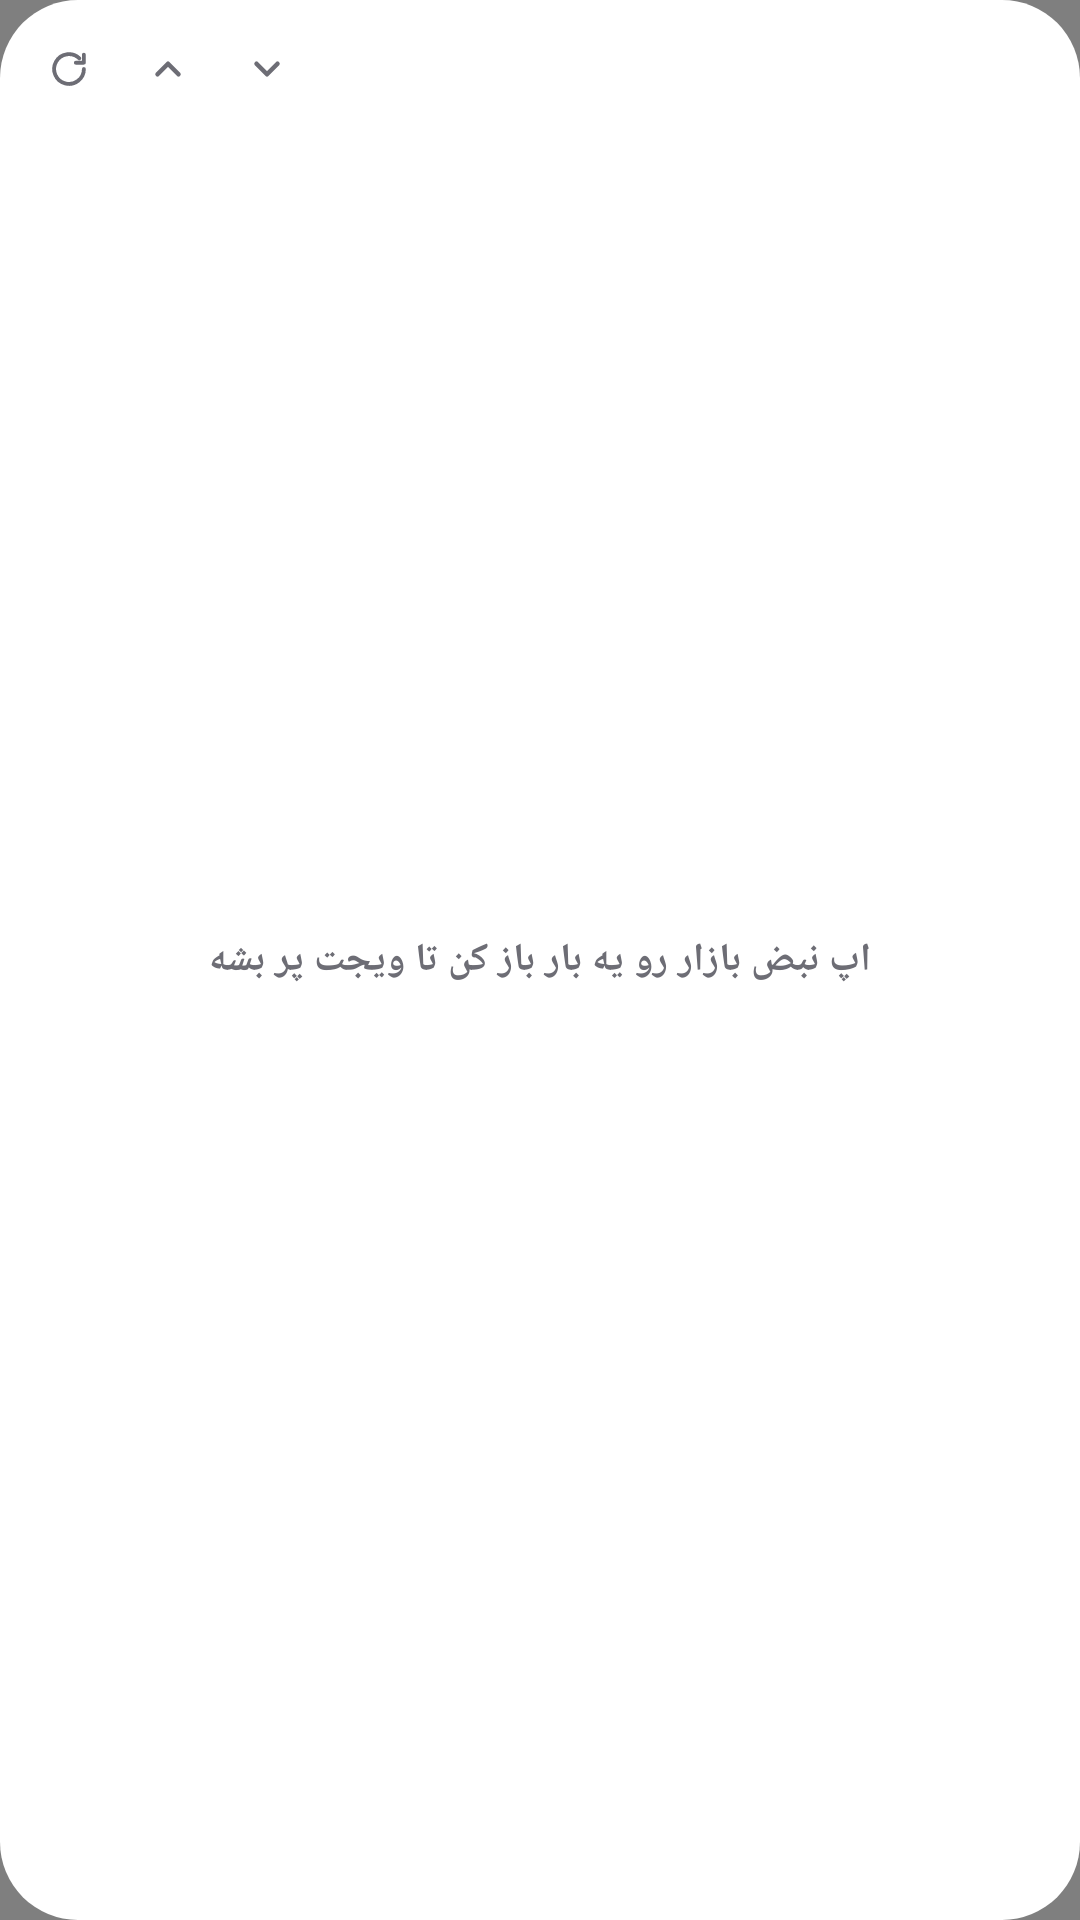

Screen size 1080px×1920px. Icon name, then its box in pixels as {"left": x1, "top": y1, "right": x2, "bottom": y2}:
next: {"left": 254, "top": 61, "right": 280, "bottom": 77}
previous: {"left": 155, "top": 61, "right": 181, "bottom": 77}
refresh: {"left": 52, "top": 52, "right": 86, "bottom": 86}
